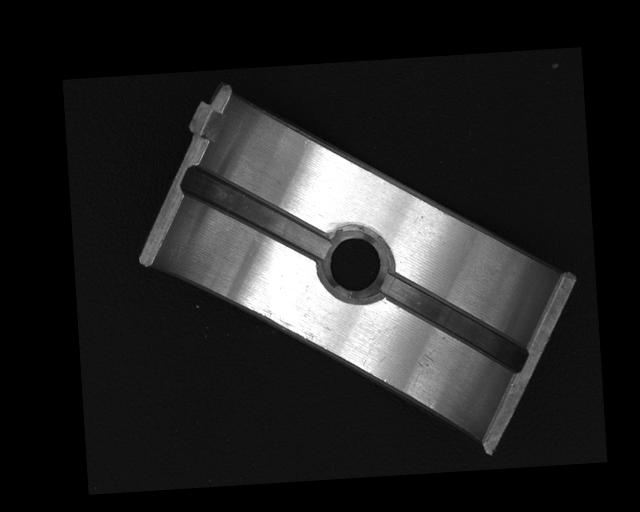gap: (378, 266, 529, 379), (181, 157, 328, 268)
hole: (320, 227, 392, 302)
